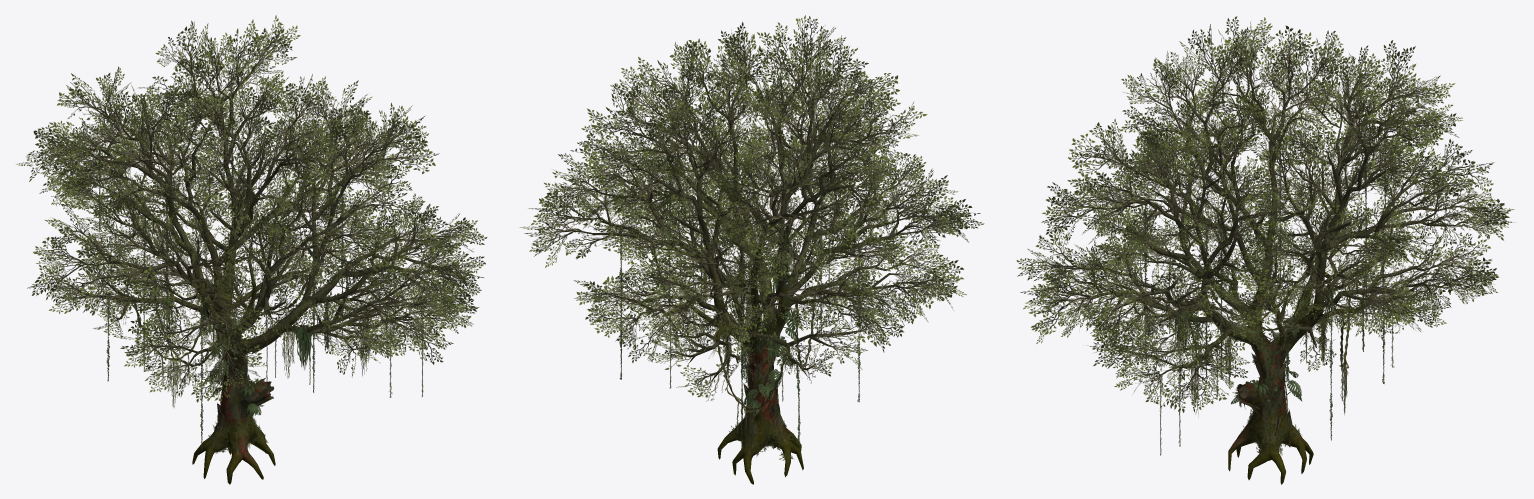
The model's file is tree-BHOlymgy.glb.
3 renders of one model, left to right at view 1: azimuth 30°, elevation 25°; view 2: azimuth 150°, elevation 25°; view 3: azimuth 270°, elevation 25°, orthographic. The views are drawn at different scales.
Parts seen in each view (by area): view 1: TreeGen; view 2: TreeGen; view 3: TreeGen.
Boxes of the visible parts, box(x1,y1,x2,y2) form: TreeGen: box(16, 15, 487, 484); TreeGen: box(519, 15, 984, 484); TreeGen: box(1016, 16, 1514, 484).
Size of the model in its own units: 21.13 by 22.48 by 24.06.
6 materials, 6 textured.
